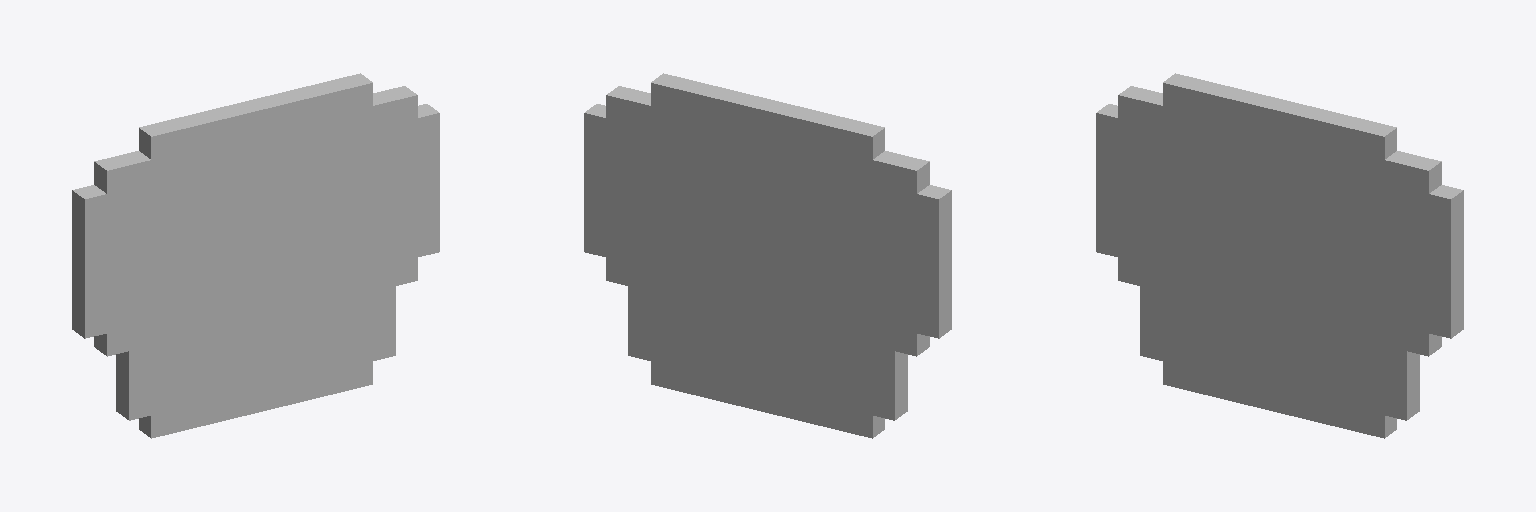
Rendered from The Memory Hunter Head.obj.
3 views of the same model, side by side, from view 1: azimuth 30°, elevation 25°; view 2: azimuth 150°, elevation 25°; view 3: azimuth 330°, elevation 25° (orthographic).
Bounding box in the file's own units: 16 × 13 × 1.